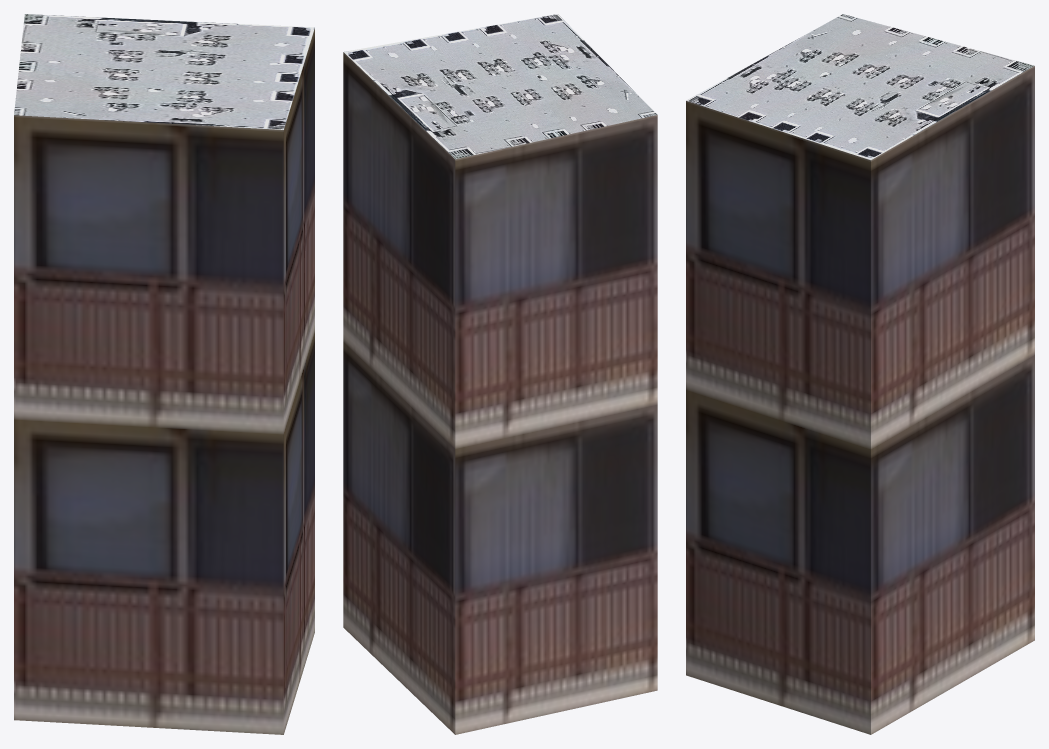
The model's file is ResTex__130.fbx.
3 renders of one model, left to right at view 1: azimuth 30°, elevation 25°; view 2: azimuth 150°, elevation 25°; view 3: azimuth 270°, elevation 25°, orthographic. The views are drawn at different scales.
Parts seen in each view (by area): view 1: CityEngineMaterial_6_m, CityEngineMaterial_2_m; view 2: CityEngineMaterial_6_m, CityEngineMaterial_2_m; view 3: CityEngineMaterial_6_m, CityEngineMaterial_2_m.
Part boxes in pixels (x1,y1,x2,y2): CityEngineMaterial_6_m: [14, 28, 314, 734]; CityEngineMaterial_2_m: [14, 14, 314, 129]; CityEngineMaterial_6_m: [343, 52, 657, 734]; CityEngineMaterial_2_m: [344, 14, 657, 159]; CityEngineMaterial_6_m: [686, 66, 1034, 734]; CityEngineMaterial_2_m: [686, 14, 1034, 160].
Size of the model in its own units: 3.28 by 6 by 3.3.
Materials: 2 (2 with a texture image).
